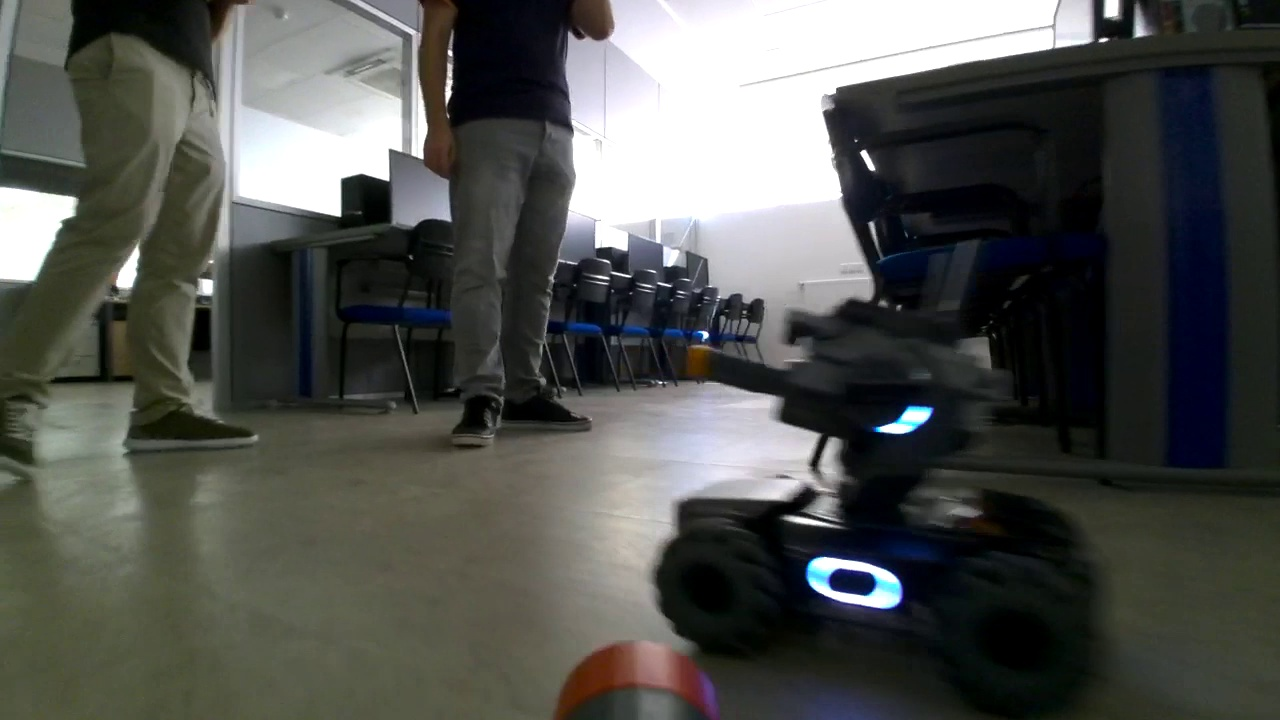robot: (661, 295, 1102, 688)
